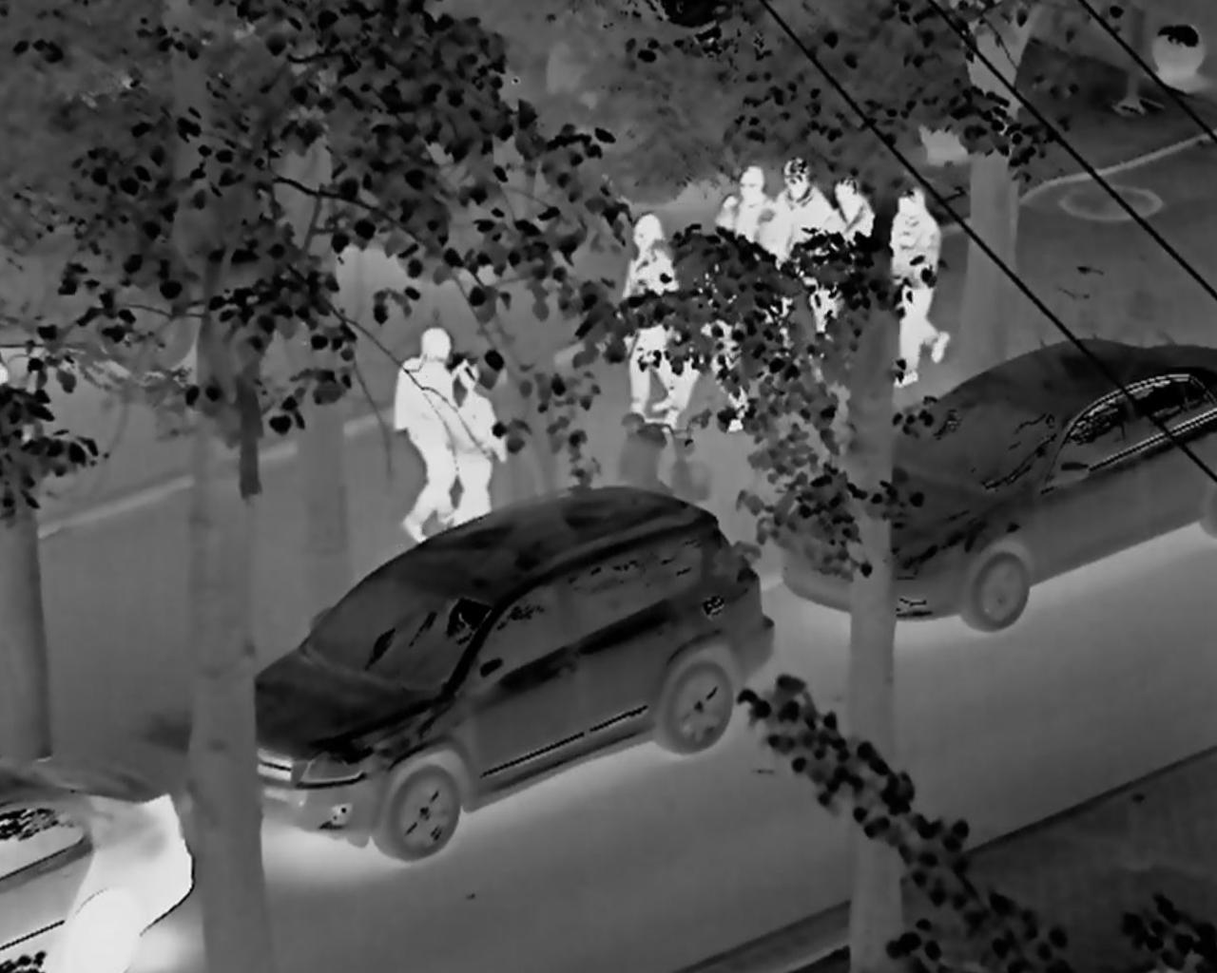person: (353, 301, 458, 534), (442, 355, 517, 550), (618, 213, 681, 433), (888, 183, 952, 398), (779, 143, 834, 360), (705, 168, 773, 341), (834, 169, 884, 340)
